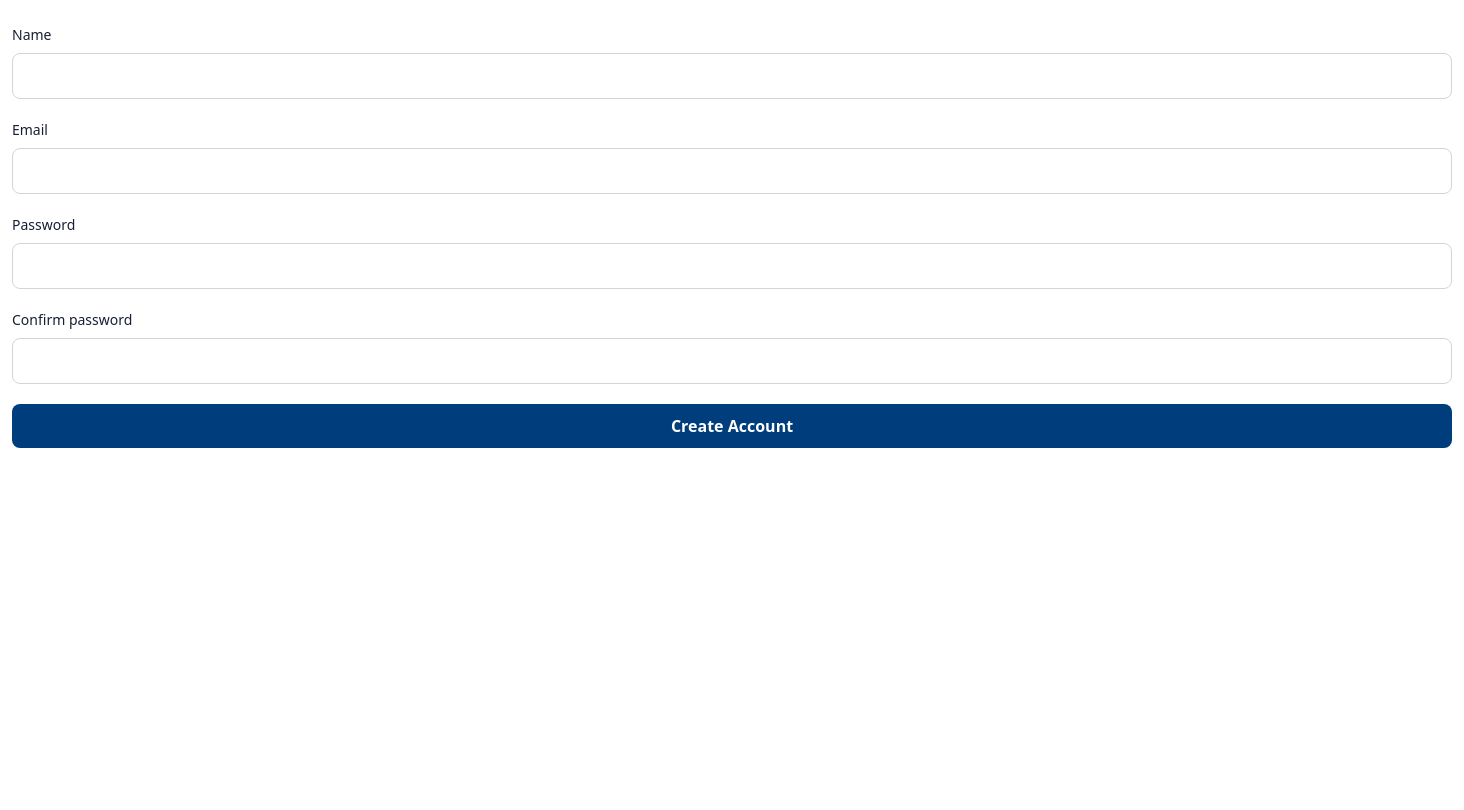
RegisterForm › shows one required error per field and blocks submission
The image size is (1464, 810).
Step 1. Click the button "Create Account" → (732, 426), box [12,404,1452,448]
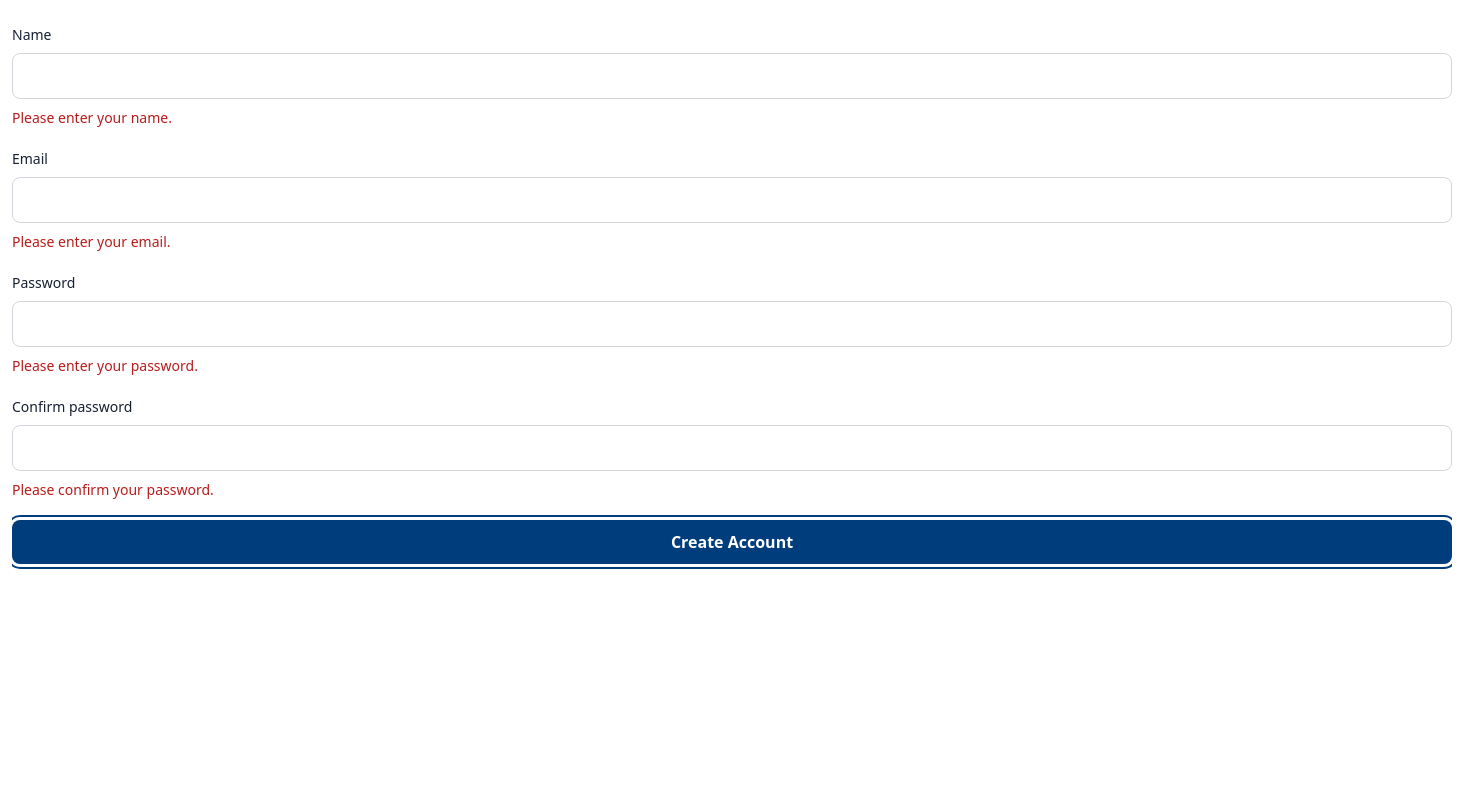
Check: the number of messages is 4, box [12,108,172,127]; [12,232,170,251]; [12,356,198,375]; [12,480,214,499]
